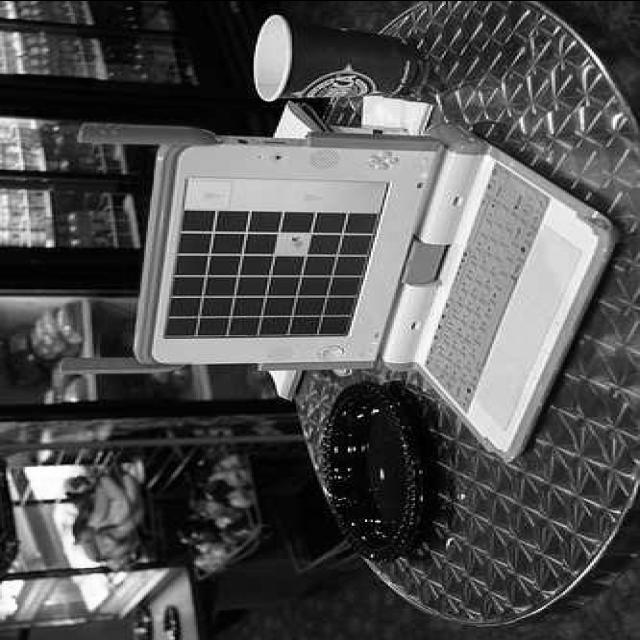laptop: (145, 120, 615, 448)
